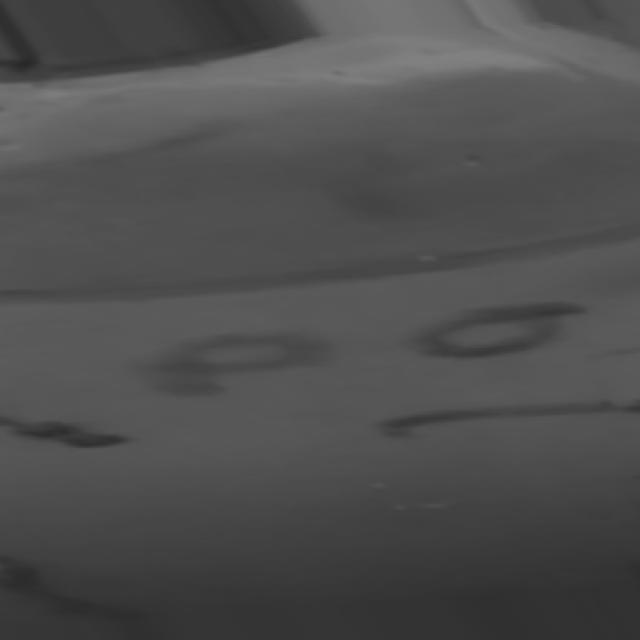larvas: (138, 332, 319, 394), (426, 294, 582, 362), (2, 563, 137, 622), (382, 402, 640, 428), (0, 408, 118, 455)
